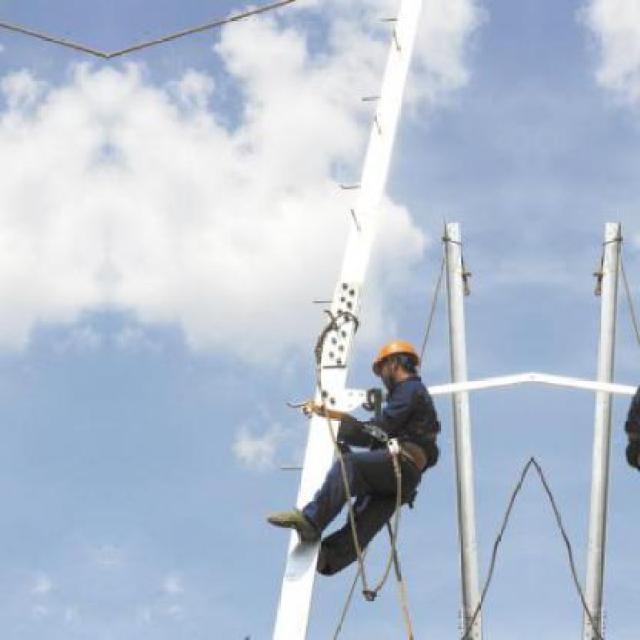helmet: (368, 342, 422, 391)
